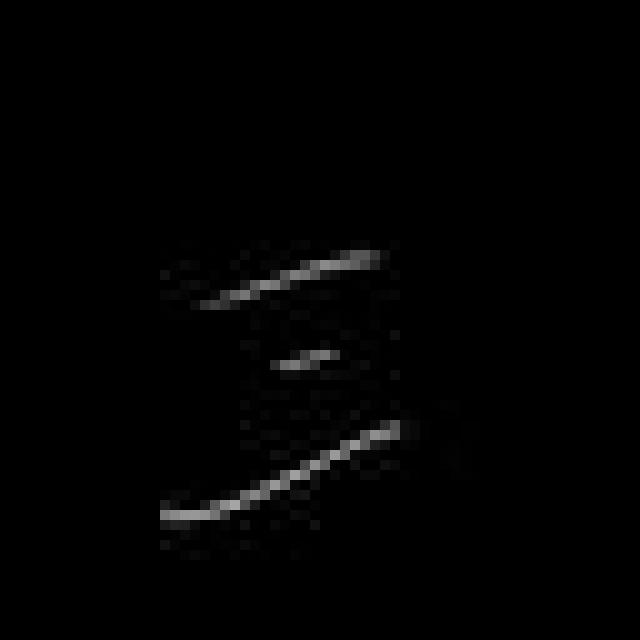3 -three-: (139, 231, 425, 545)
